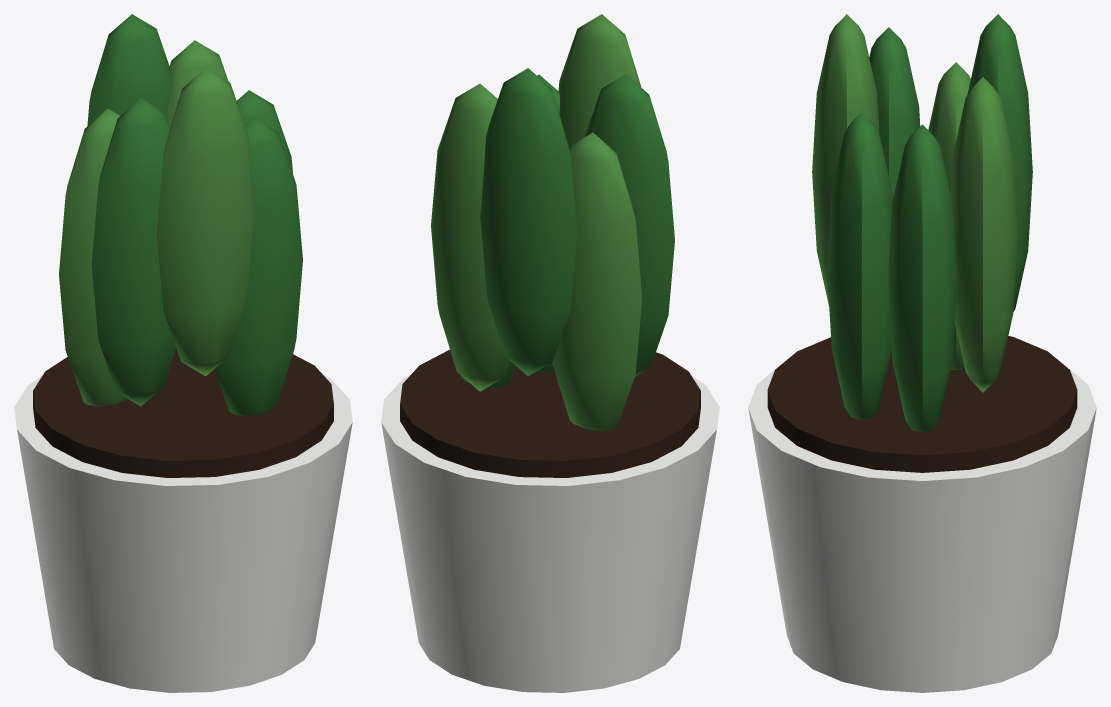
File: Plant_Small.glb
The picture shows the model from 3 angles, left to right: view 1: azimuth 30°, elevation 25°; view 2: azimuth 150°, elevation 25°; view 3: azimuth 270°, elevation 25°; orthographic projection. The views are drawn at different scales.
Visible parts, largest first — view 1: Plant_Small; view 2: Plant_Small; view 3: Plant_Small.
Boxes of the visible parts, left/top/right/bottom form: Plant_Small: left=14, top=14, right=352, bottom=692; Plant_Small: left=381, top=14, right=719, bottom=692; Plant_Small: left=748, top=14, right=1096, bottom=692.
Bounding box in the file's own units: 0.18 × 0.35 × 0.18.
